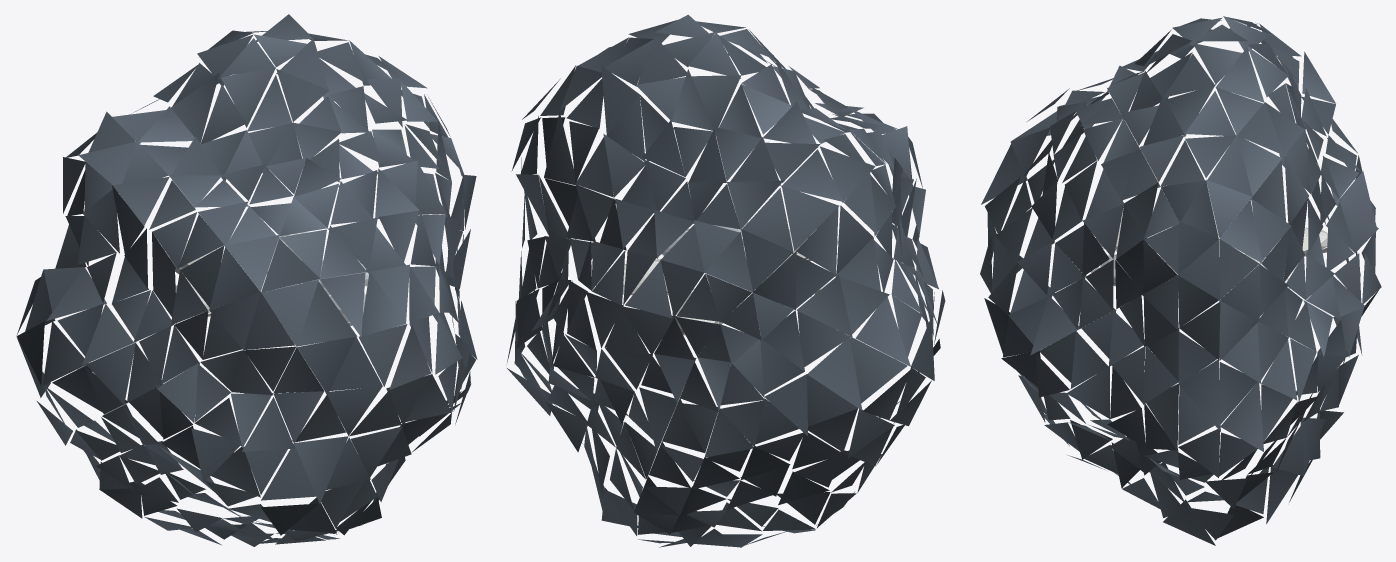
The model's file is mature-lod1.glb.
3 renders of one model, left to right at view 1: azimuth 30°, elevation 25°; view 2: azimuth 150°, elevation 25°; view 3: azimuth 270°, elevation 25°, orthographic. The views are drawn at different scales.
Parts seen in each view (by area): view 1: tin-host-rock, tin-mineral-seams; view 2: tin-host-rock, tin-mineral-seams; view 3: tin-host-rock, tin-mineral-seams.
Boxes of the visible parts, x1,y1,x2,y2 form: tin-host-rock: [16, 14, 477, 546]; tin-mineral-seams: [162, 232, 368, 346]; tin-host-rock: [506, 14, 945, 547]; tin-mineral-seams: [596, 213, 838, 335]; tin-host-rock: [980, 16, 1381, 545]; tin-mineral-seams: [1091, 196, 1327, 298].
Size of the model in its own units: 3.41 by 3.96 by 2.92.
